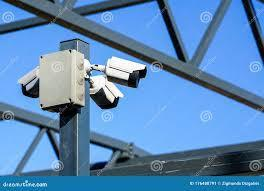tutu: (100, 54, 148, 88), (89, 73, 127, 111), (21, 59, 41, 101)
